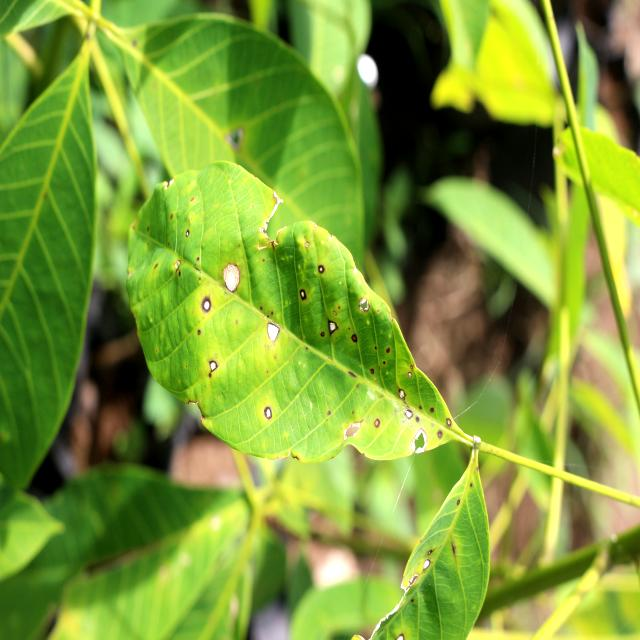Colletotrichum: (223, 262, 240, 292), (202, 297, 212, 313), (328, 319, 338, 335), (209, 361, 218, 372), (264, 407, 272, 419), (406, 409, 413, 419), (300, 289, 306, 300), (399, 389, 405, 399), (318, 265, 324, 273), (352, 334, 358, 342), (374, 419, 380, 427), (446, 419, 452, 426), (438, 431, 442, 438), (320, 332, 325, 337), (186, 230, 189, 237), (197, 330, 201, 335), (408, 372, 412, 377), (430, 408, 434, 412), (371, 369, 374, 374)
